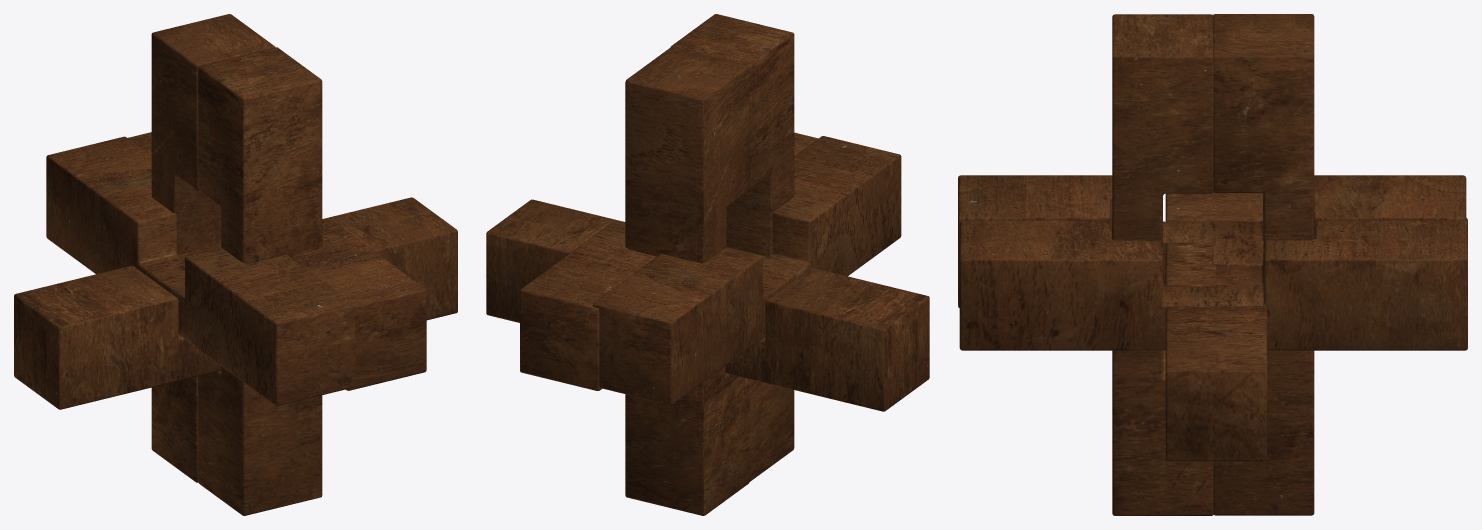
Rendered from step_05_luban_a_b_c_d_e.glb.
3 renders of one model, left to right at view 1: azimuth 30°, elevation 25°; view 2: azimuth 150°, elevation 25°; view 3: azimuth 270°, elevation 25°, orthographic. The views are drawn at different scales.
Visible parts, largest first — view 1: luban_c, luban_e, luban_a, luban_b, luban_d; view 2: luban_b, luban_e, luban_a, luban_c, luban_d; view 3: luban_d, luban_b, luban_c, luban_a, luban_e.
Boxes of the visible parts, x1,y1,x2,y2 form: luban_c: (198,47,322,515); luban_e: (46,136,355,405); luban_a: (14,197,457,409); luban_b: (151,14,274,482); luban_d: (128,132,426,390); luban_b: (625,47,749,515); luban_e: (592,136,901,404); luban_a: (486,199,929,411); luban_c: (670,14,794,481); luban_d: (520,132,818,390); luban_d: (959,217,1467,350); luban_b: (1213,14,1314,515); luban_c: (1112,14,1213,515); luban_a: (1165,192,1267,461); luban_e: (958,175,1466,307).
Bounding box in the file's own units: 10 × 10 × 10.04.
Materials: 1 (1 with a texture image).
